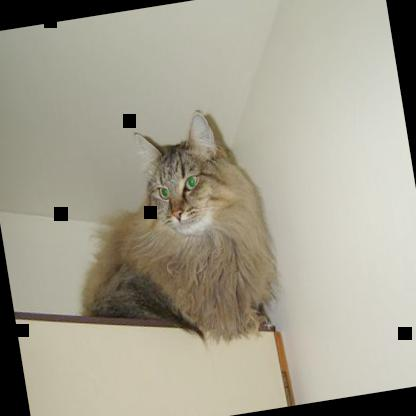cat: (56, 101, 286, 363)
